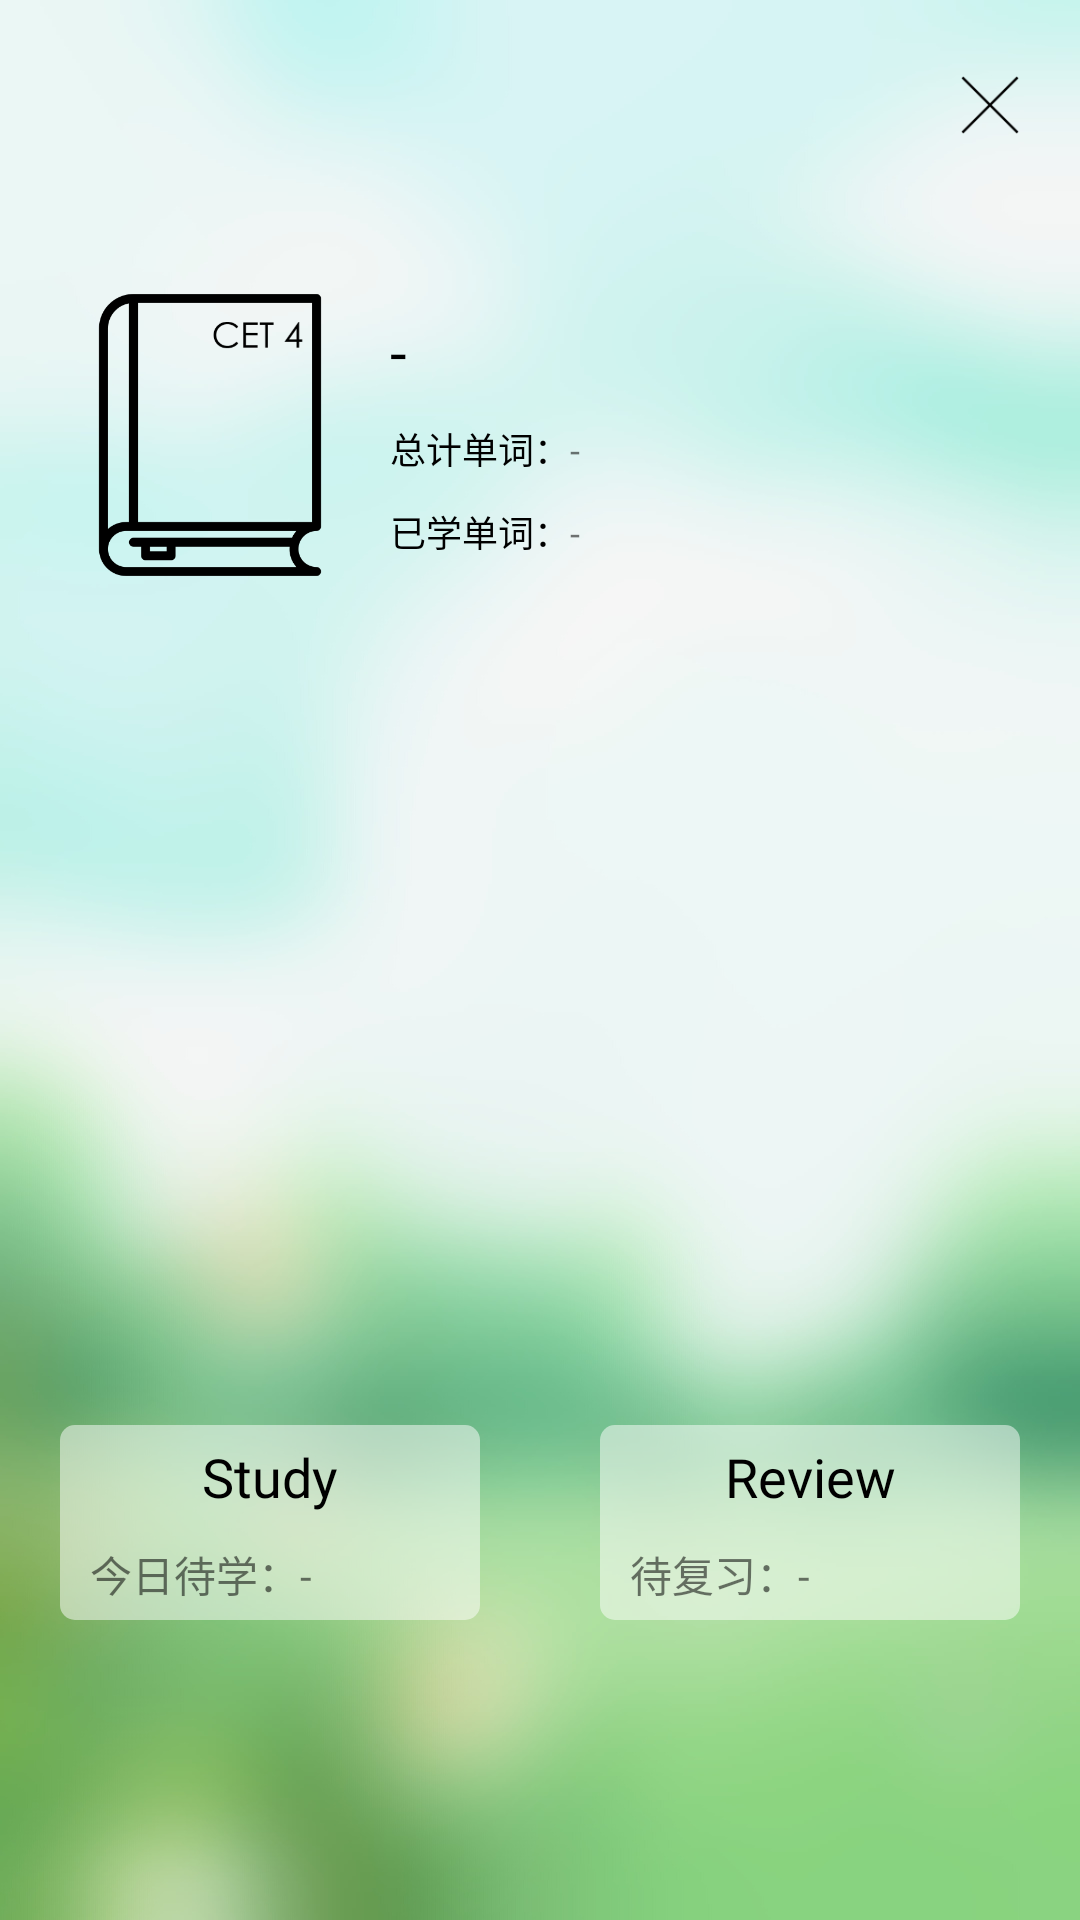

Named icons in this screenshot (1080*1920) and their centers, [x,y]:
back: [990,105]
